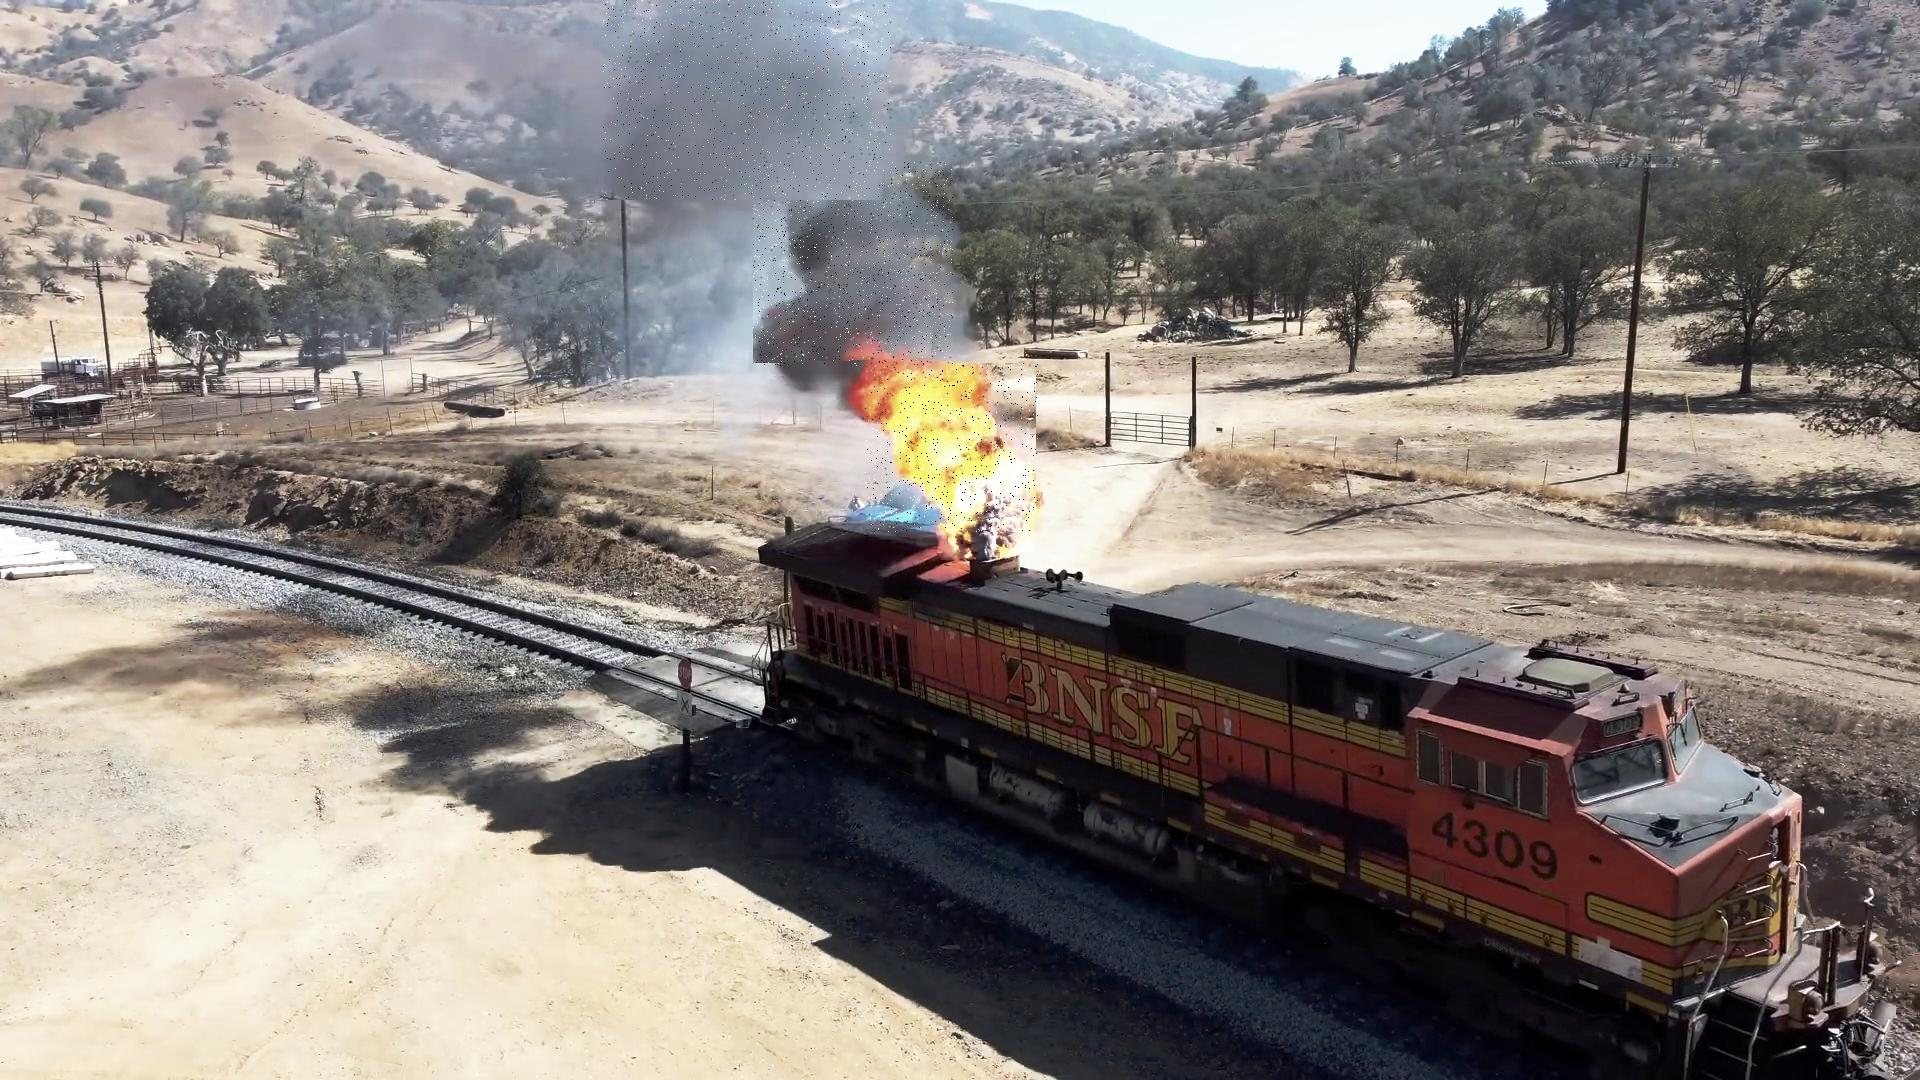fire: (753, 162, 953, 367), (865, 363, 1039, 533)
smoke: (603, 0, 891, 200)
